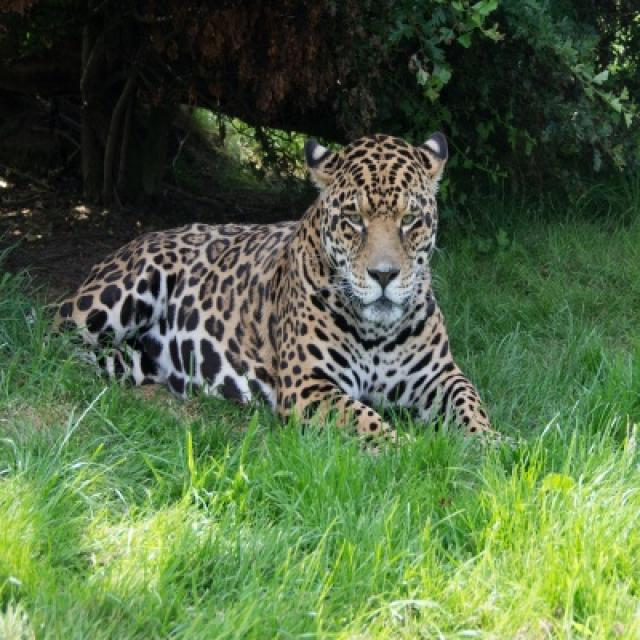Jaguar: (53, 134, 491, 442)
